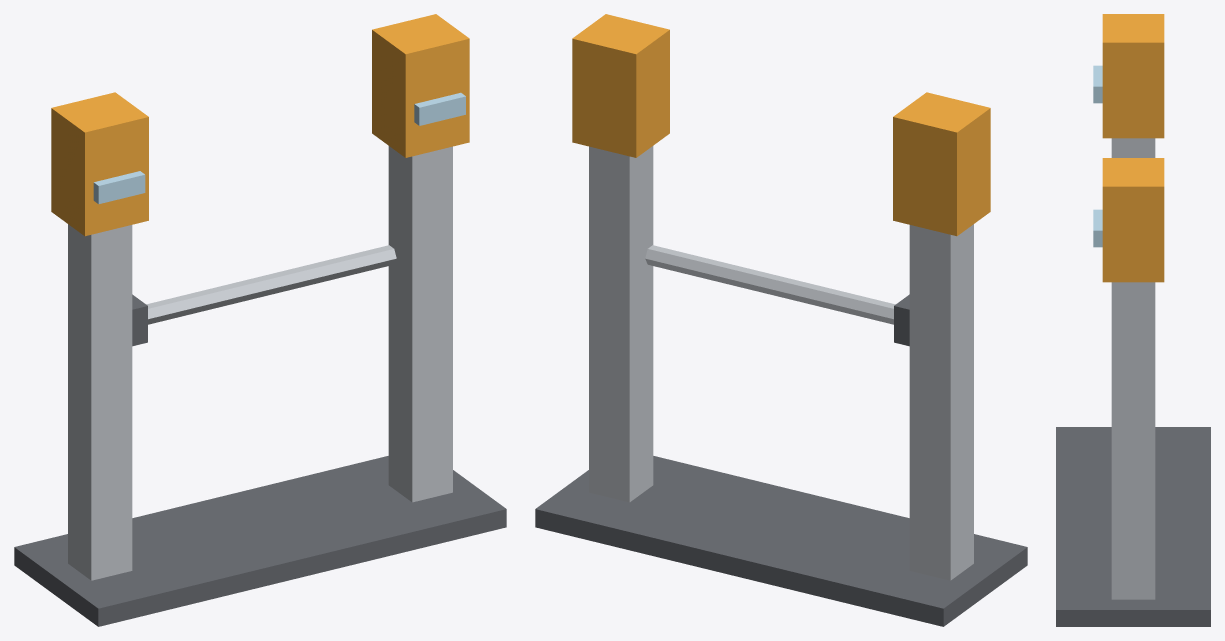
Rendered from ski-resort-and-snow-park-pass-scanner-gate-b85985a2__25963.glb.
3 renders of one model, left to right at view 1: azimuth 30°, elevation 25°; view 2: azimuth 150°, elevation 25°; view 3: azimuth 270°, elevation 25°, orthographic. The views are drawn at different scales.
Parts seen in each view (by area): view 1: pass-scanner-gate, gate-arm (×2); view 2: pass-scanner-gate, gate-arm (×2); view 3: pass-scanner-gate.
Part boxes in pixels (x1,y1,x2,y2): pass-scanner-gate: [14, 14, 506, 626]; gate-arm (×2): [132, 245, 396, 346]; pass-scanner-gate: [535, 14, 1027, 626]; gate-arm (×2): [645, 245, 909, 346]; pass-scanner-gate: [1056, 14, 1210, 626].
Bounding box in the file's own units: 1.4 × 1.55 × 0.4999.
